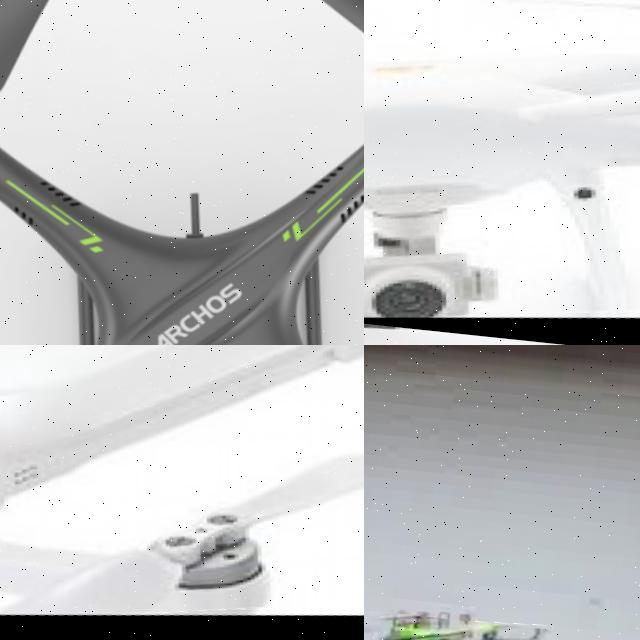0: (364, 601, 555, 640)
drone: (0, 0, 364, 345), (0, 345, 364, 640), (364, 0, 640, 345)
